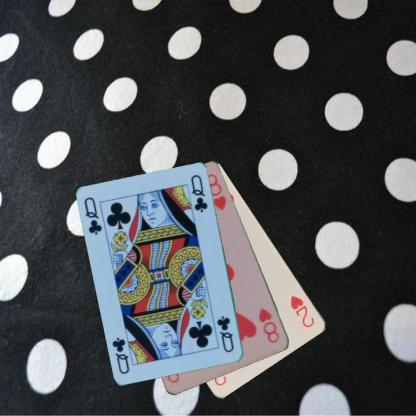2h: (288, 292, 316, 329)
8h: (256, 305, 281, 346)
Qc: (214, 313, 236, 354), (82, 195, 103, 236)
